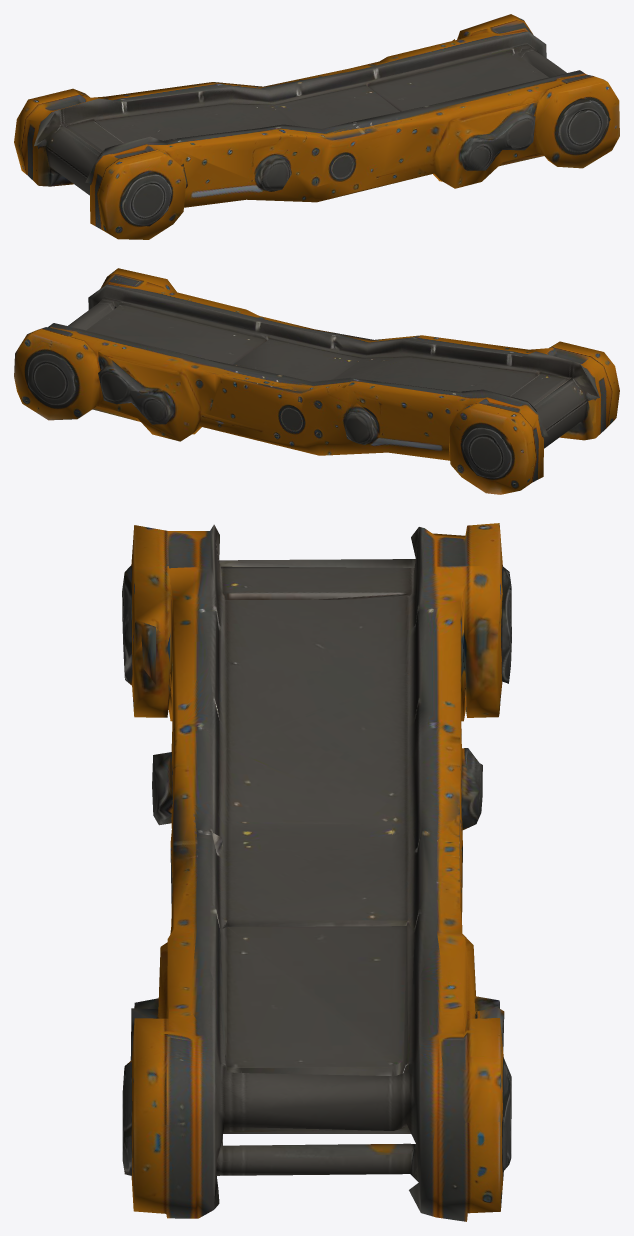
Rendered from cinta.fbx.
3 renders of one model, top to bottom at view 1: azimuth 30°, elevation 25°; view 2: azimuth 150°, elevation 25°; view 3: azimuth 270°, elevation 25°, orthographic. The views are drawn at different scales.
Visible parts, largest first — view 1: tripo_node_cba78374; view 2: tripo_node_cba78374; view 3: tripo_node_cba78374.
Boxes of the visible parts, box(x1,y1,x2,y2) form: tripo_node_cba78374: box(14, 14, 619, 239); tripo_node_cba78374: box(14, 268, 619, 494); tripo_node_cba78374: box(122, 523, 511, 1221).
Size of the model in its own units: 0.9993 by 0.219 by 0.3276.
Materials: 1 (1 with a texture image).
